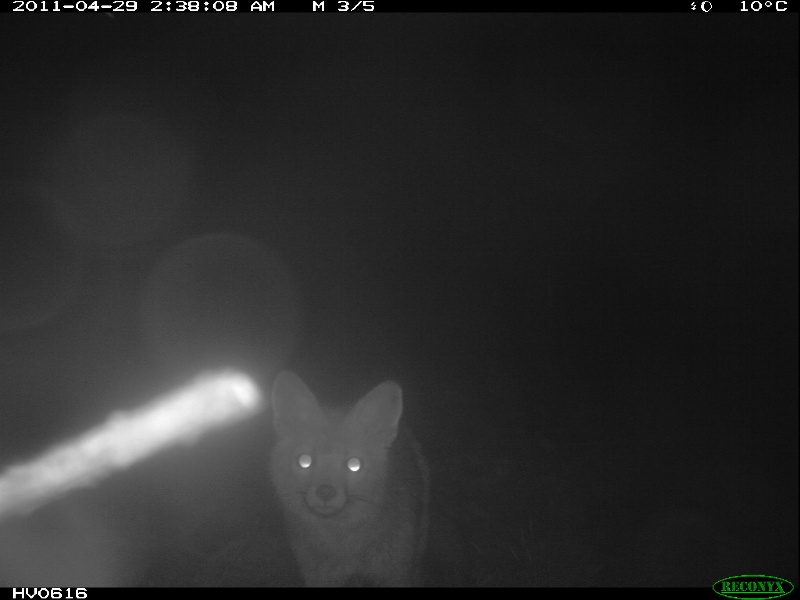fox: (267, 365, 439, 591)
